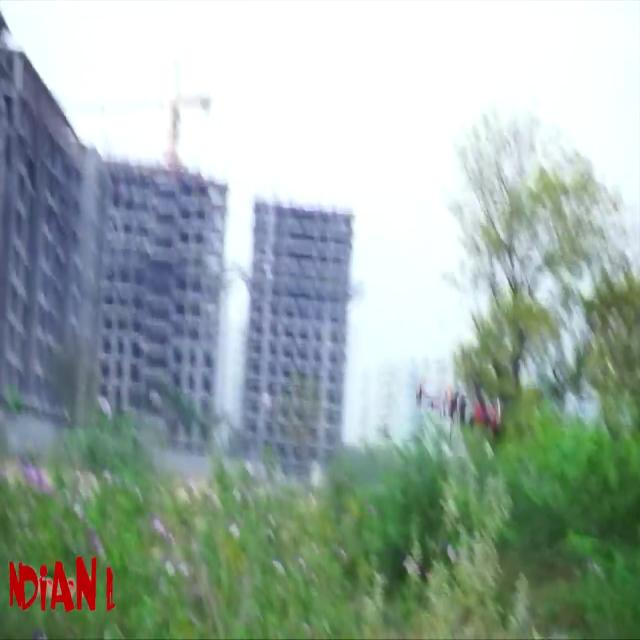drone: (418, 375, 506, 442)
